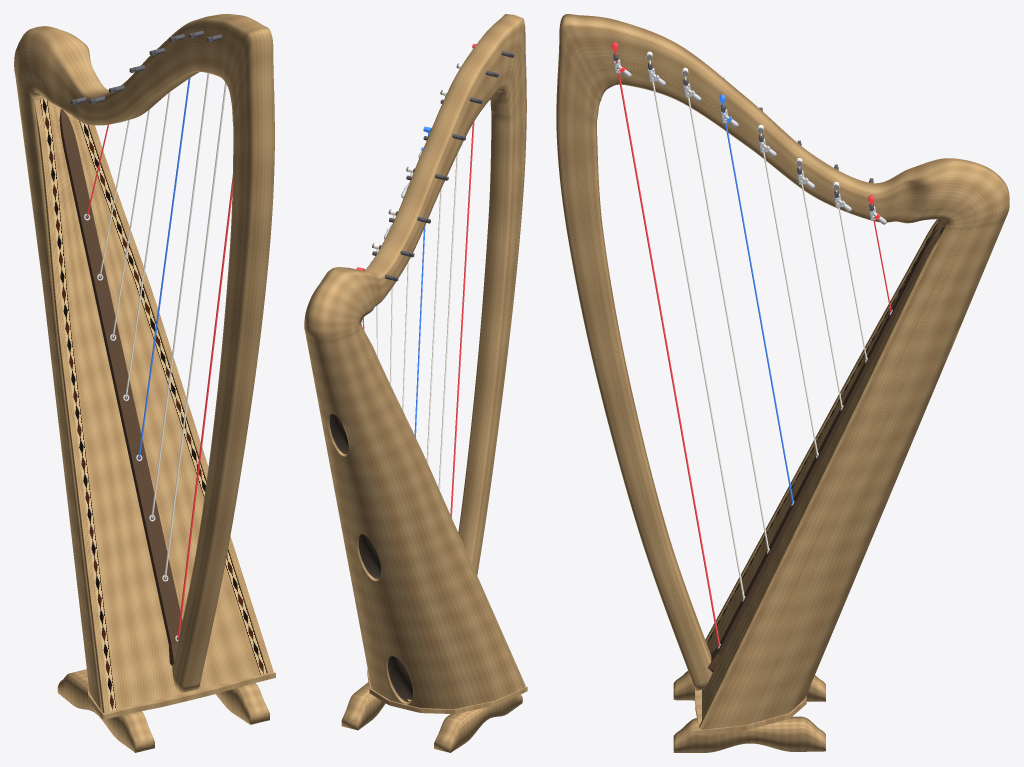
The model's file is celtic_harp_8string_v9_3_safe_copy.glb.
The picture shows the model from 3 angles, left to right: view 1: azimuth 30°, elevation 25°; view 2: azimuth 150°, elevation 25°; view 3: azimuth 270°, elevation 25°; orthographic projection. The views are drawn at different scales.
Visible parts, largest first — view 1: Harp_Harmonic_Frame, Harp_Soundboard_Face, Harp_Central_String_Rib, Harp_Soundboard_EdgeRail_-1, Harp_Diamond_Purfling_-1, Harp_Diamond_Purfling_1, Harp_Soundboard_EdgeRail_1, Harp_Leg_1, Harp_Bottom_Plate, Harp_Leg_2, String_2, String_1 (+4 smaller); view 2: Harp_Harmonic_Frame, Harp_Leg_1, Harp_Leg_2, Harp_Soundboard_EdgeRail_-1, Harp_Bottom_Plate, String_1, String_2, Harp_Rear_Soundhole_1, Harp_Rear_Soundhole_2, String_3, Harp_Rear_Soundhole_3, String_4; view 3: Harp_Harmonic_Frame, Harp_Soundboard_Face, Harp_Central_String_Rib, Harp_Leg_2, Harp_Soundboard_EdgeRail_1, Harp_Soundboard_EdgeRail_-1, String_1, String_2, String_3, Harp_Diamond_Purfling_-1, Harp_Leg_1, Harp_Bottom_Plate (+1 smaller).
Part boxes in pixels (x1,y1,x2,y2): Harp_Harmonic_Frame: (14, 14, 274, 712); Harp_Soundboard_Face: (47, 100, 260, 709); Harp_Central_String_Rib: (59, 109, 182, 666); Harp_Soundboard_EdgeRail_-1: (34, 99, 109, 712); Harp_Diamond_Purfling_-1: (40, 98, 116, 711); Harp_Diamond_Purfling_1: (79, 121, 266, 674); Harp_Soundboard_EdgeRail_1: (88, 124, 273, 672); Harp_Leg_1: (57, 669, 154, 752); Harp_Bottom_Plate: (88, 672, 275, 719); Harp_Leg_2: (215, 683, 269, 724); String_2: (164, 82, 226, 578); String_1: (177, 177, 232, 638); Harp_Harmonic_Frame: (304, 14, 526, 709); Harp_Leg_1: (434, 694, 522, 752); Harp_Leg_2: (341, 682, 385, 730); Harp_Soundboard_EdgeRail_-1: (362, 327, 525, 687); Harp_Bottom_Plate: (367, 669, 527, 713); String_1: (450, 122, 474, 517); String_2: (438, 152, 458, 490); Harp_Rear_Soundhole_1: (388, 656, 412, 701); Harp_Rear_Soundhole_2: (358, 534, 380, 578); String_3: (426, 188, 441, 463); Harp_Rear_Soundhole_3: (329, 414, 348, 453); String_4: (414, 226, 425, 437); Harp_Harmonic_Frame: (556, 14, 1009, 729); Harp_Soundboard_Face: (702, 219, 945, 719); Harp_Central_String_Rib: (708, 228, 939, 672); Harp_Leg_2: (673, 716, 825, 752); Harp_Soundboard_EdgeRail_1: (699, 226, 945, 729); Harp_Soundboard_EdgeRail_-1: (705, 219, 938, 642); String_1: (615, 61, 719, 646); String_2: (650, 70, 744, 598); String_3: (685, 86, 768, 551); Harp_Diamond_Purfling_-1: (706, 219, 940, 644); Harp_Leg_1: (673, 671, 825, 701); Harp_Bottom_Plate: (695, 689, 806, 735).
Size of the model in its own units: 0.3334 by 1.38 by 0.8062.
Materials: 16 (2 with a texture image).
